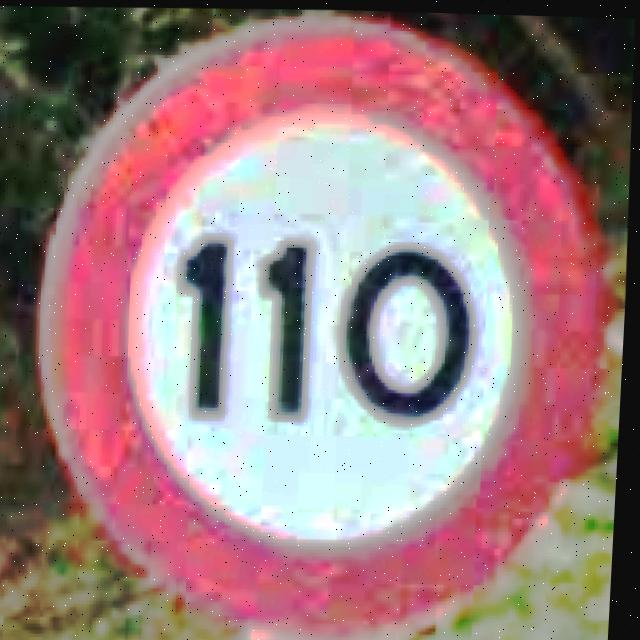max110: (18, 1, 632, 640)
